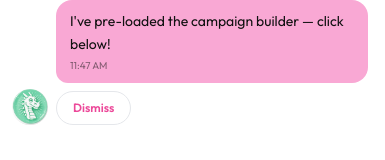
DonnyMessage quick actions › dismiss action hides the actions without closing the chat
The width and height of the screenshot is (385, 160).
Click the button "Dismiss": {"x": 94, "y": 108} [56,90,131,124]
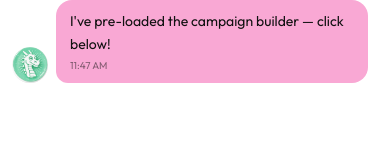
Check: the button "Dismiss" is gone
